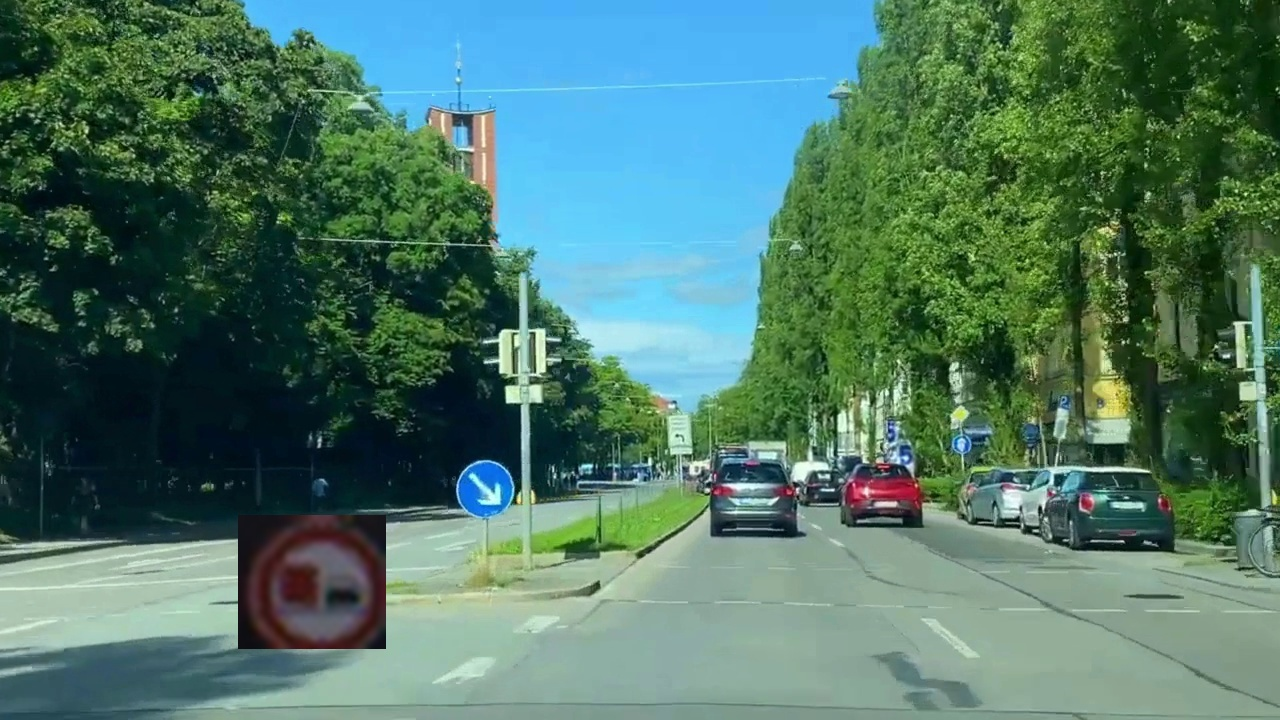No pass >3.5t: (238, 515, 386, 649)
